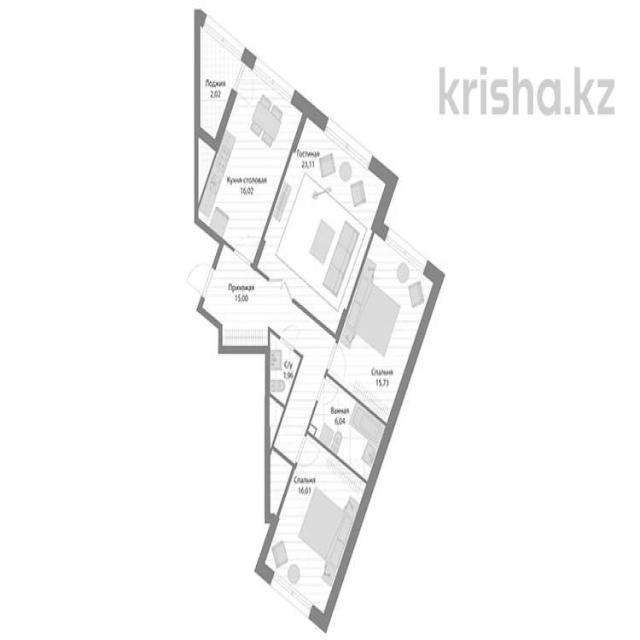balcony: (199, 19, 248, 146)
bathroom: (307, 377, 389, 488), (266, 333, 301, 410)
hallway: (275, 300, 337, 471), (200, 248, 289, 351)
kitchen: (196, 61, 306, 268)
living_room: (257, 111, 391, 340), (327, 231, 442, 428), (259, 434, 370, 623)
